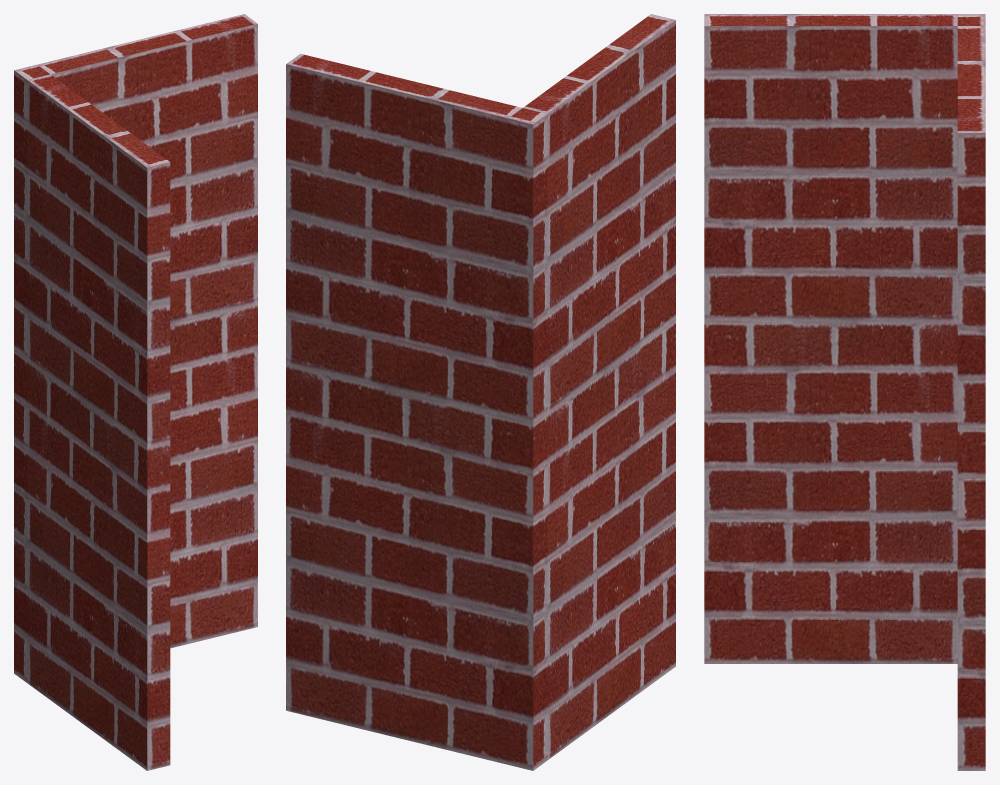
The model's file is WallCornerOut-col.gltf.
The picture shows the model from 3 angles, left to right: view 1: azimuth 30°, elevation 25°; view 2: azimuth 150°, elevation 25°; view 3: azimuth 270°, elevation 25°; orthographic projection. The views are drawn at different scales.
Visible parts, largest first — view 1: WallCornerOut; view 2: WallCornerOut; view 3: WallCornerOut.
Part boxes in pixels (x1,y1,x2,y2): WallCornerOut: [14, 14, 257, 770]; WallCornerOut: [286, 14, 675, 770]; WallCornerOut: [704, 14, 985, 770].
Bounding box in the file's own units: 2 × 5 × 2.
1 material, 1 textured.
